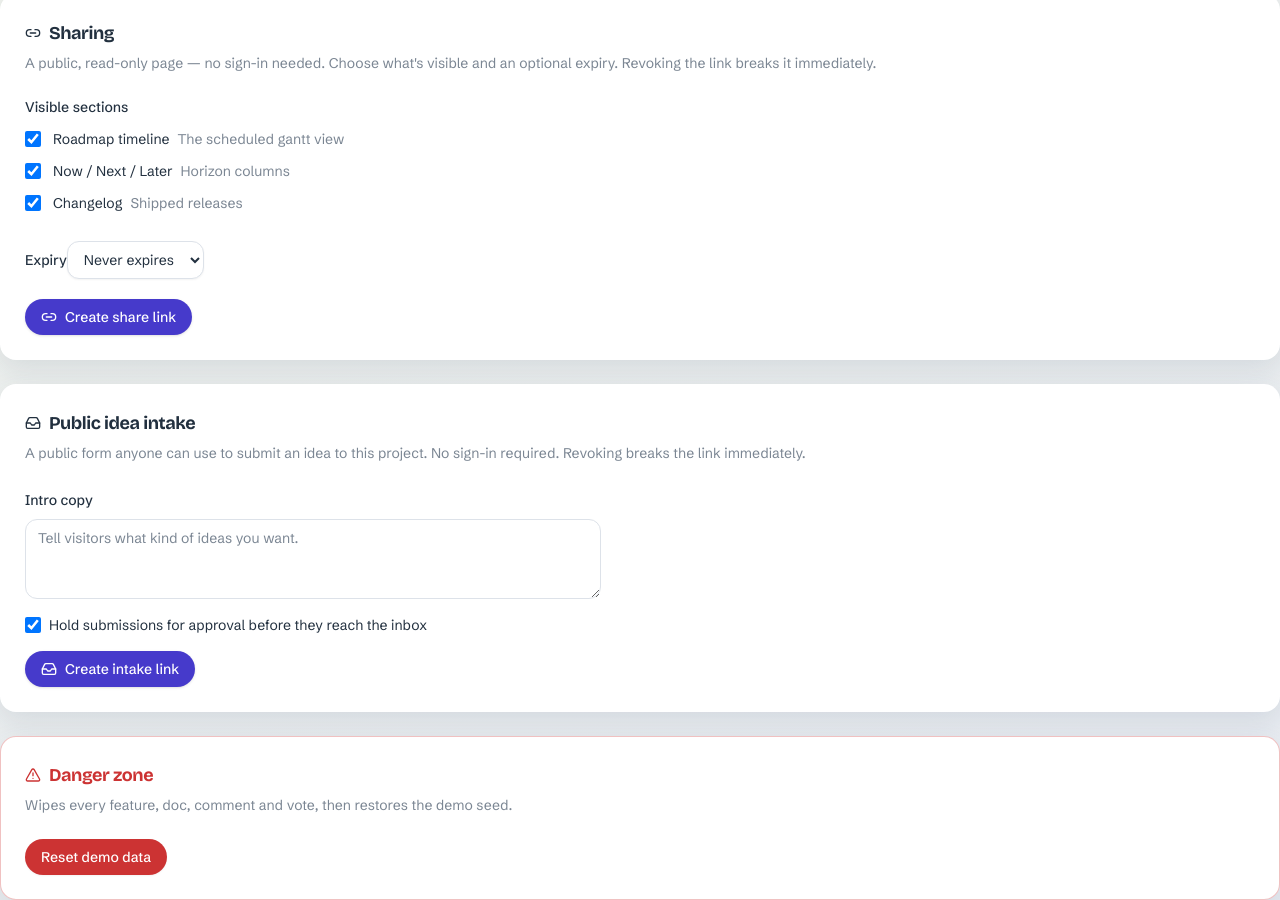
Test case: WorkspaceTab › reset demo is confirm-gated and POSTs /api/admin/reset-demo
This screenshot has width=1280, height=900.
(page scrolled)
What coordinates should you click on to do the following:
click the button "Reset demo data"
I would click on:
 (96, 857)
Its box is left=25, top=839, right=167, bottom=875.
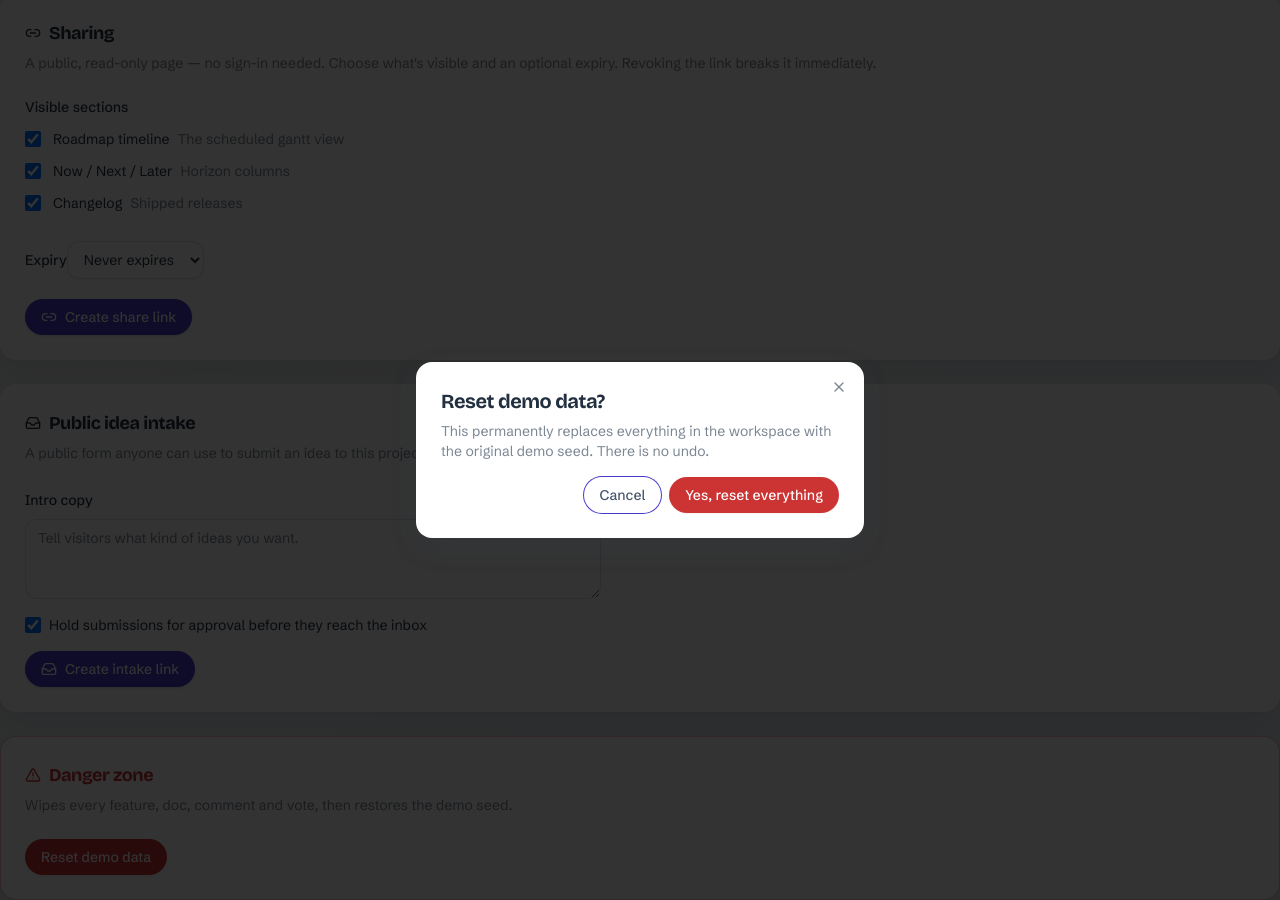
Now the dialog shows "Reset", box left=441, top=389, right=605, bottom=413
What coordinates should you click on to do the following:
click the button "Yes, reset everything"
I would click on:
 (754, 495)
Its box is left=669, top=477, right=839, bottom=513.
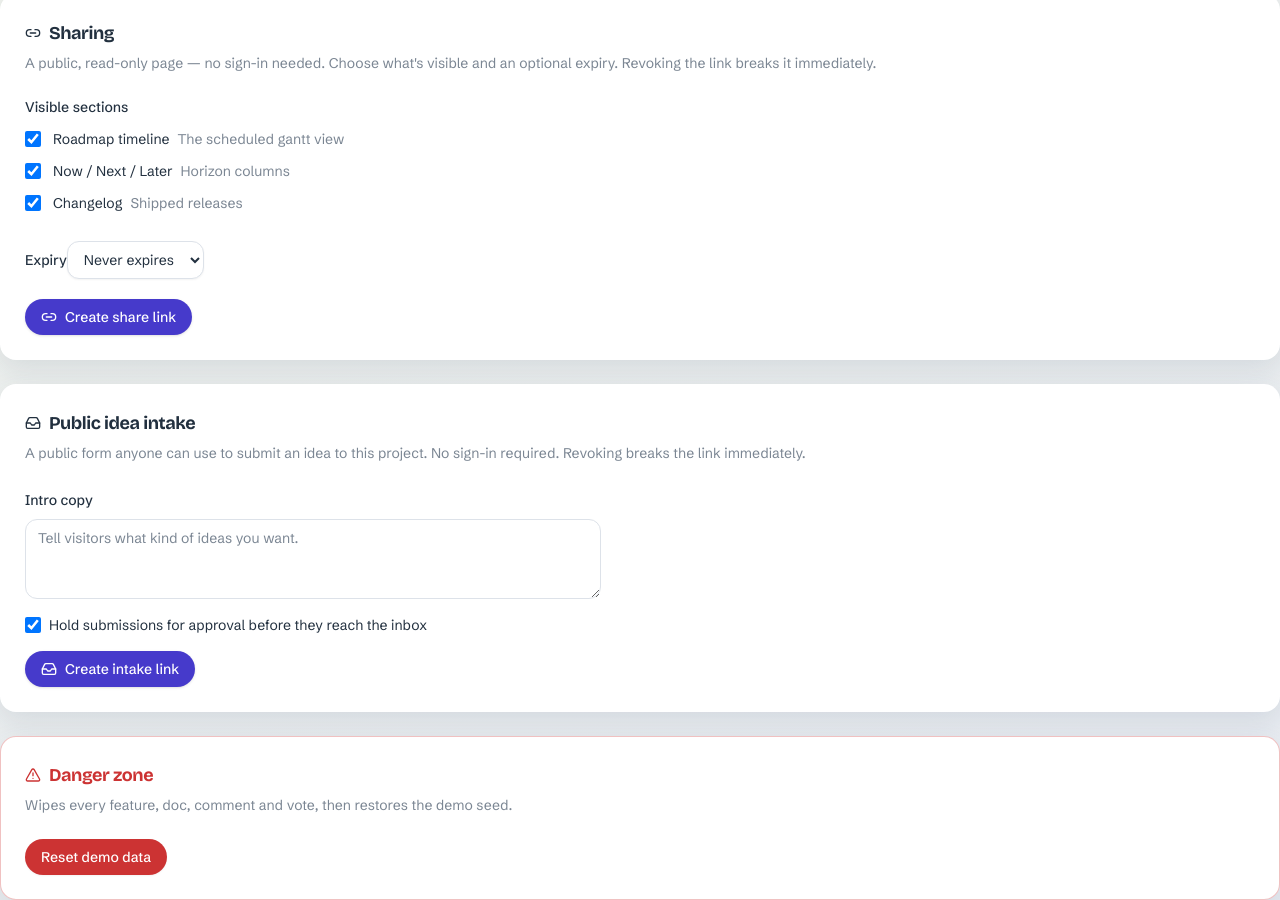
Now the dialog is gone
